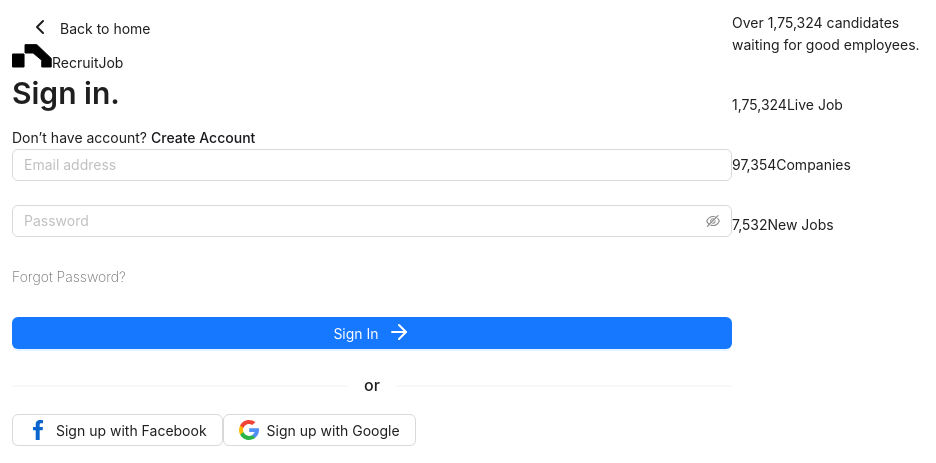
Test: TC001-TC008: Black-box - Boundary Testing › TC005: Please enter your password - Empty password field
Type "test@example.com" into the field with test id "email-input". click: x=372, y=165
box: [12,149,732,181]
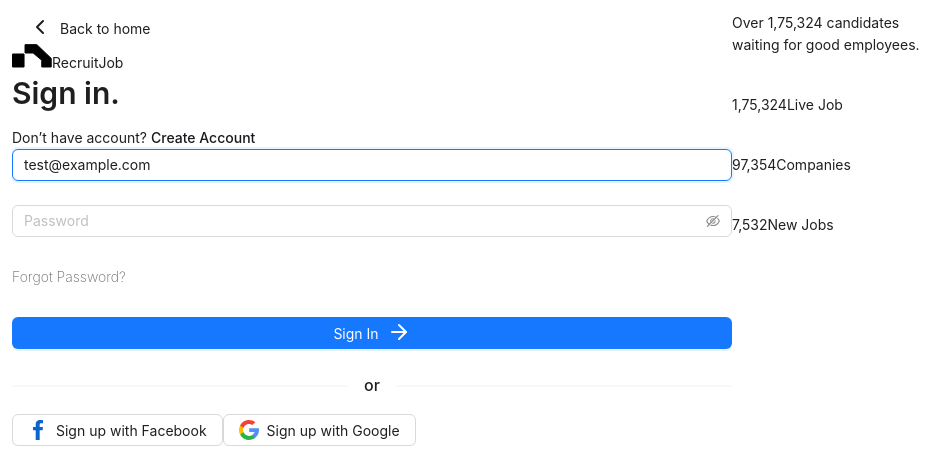
Click the submit button. click: x=372, y=333
box: [12,317,732,349]
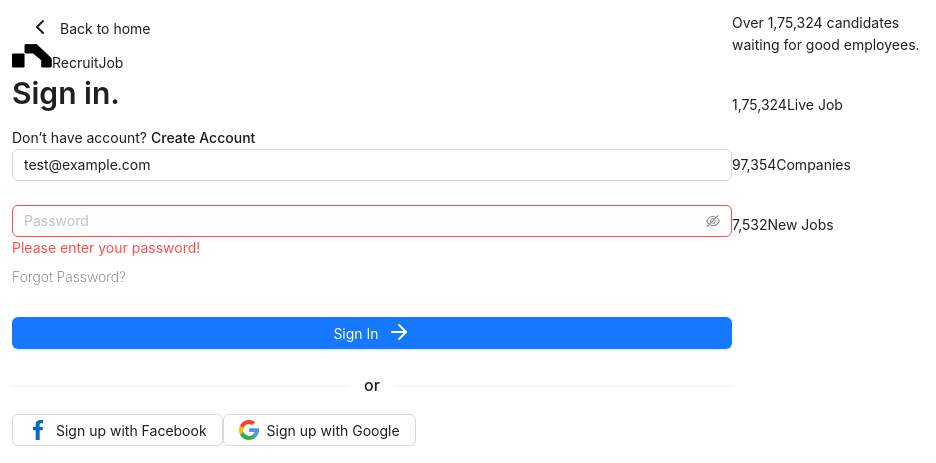
Now the text "Please enter your password!" is shown, box [12,239,200,256]
